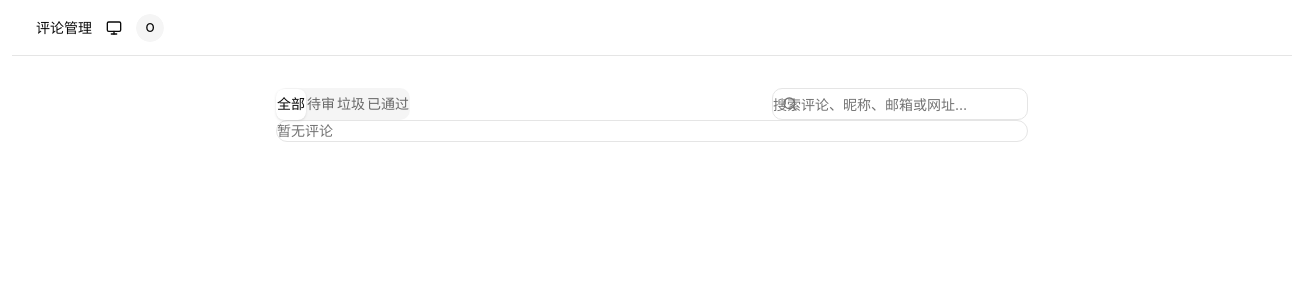
Scenario: 路由与根门 › 账号菜单里的个人资料跳到独立页
Click the button named "账号": coordinates (150, 28) x1=132 y1=10 x2=168 y2=46
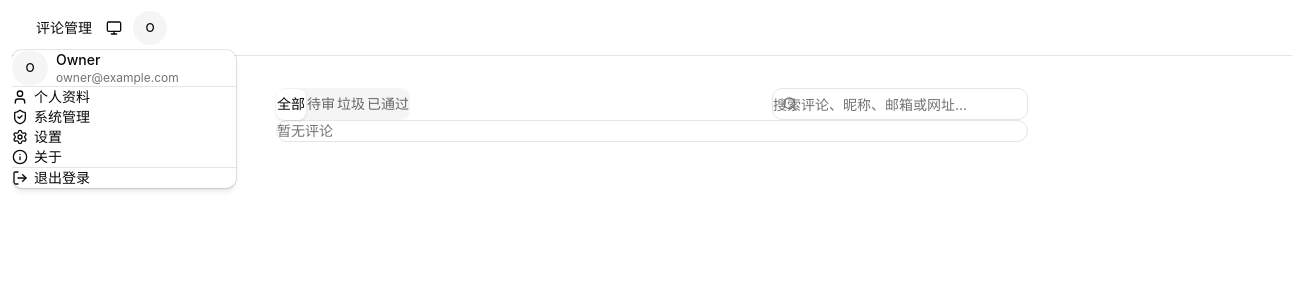
Click the menu item "个人资料": coordinates (51, 96) x1=12 y1=88 x2=90 y2=105
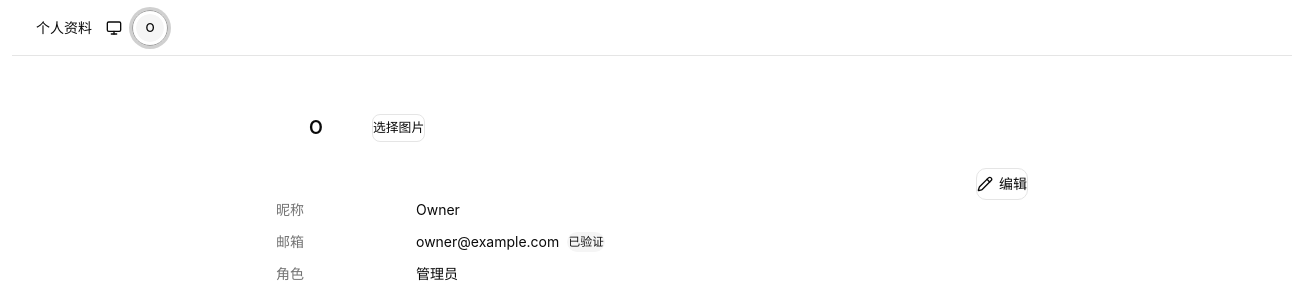
Expected: the heading "个人资料" is shown, x1=36 y1=18 x2=92 y2=38
